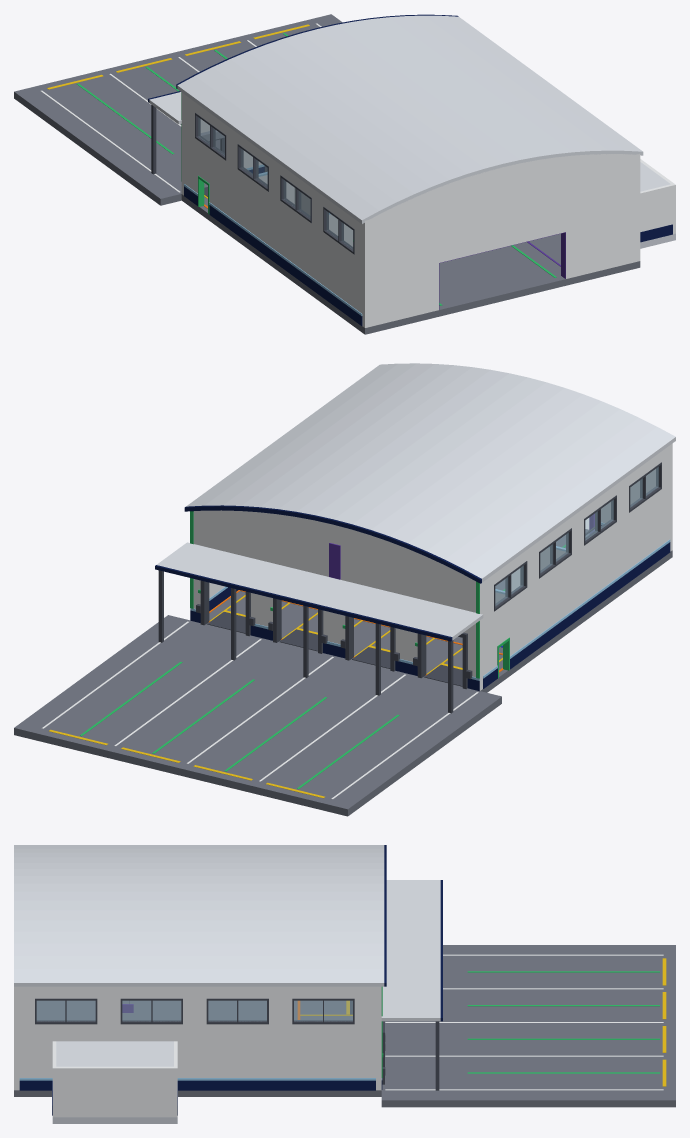
File: LLASO_Warehouse.obj
3 renders of one model, top to bottom at view 1: azimuth 30°, elevation 25°; view 2: azimuth 150°, elevation 25°; view 3: azimuth 270°, elevation 25°, orthographic. The views are drawn at different scales.
Parts seen in each view (by area): view 1: LLASO_WH_Roof, LLASO_WH_HallWall, LLASO_WH_Apron, LLASO_WH_SideWall_Fragile, LLASO_WH_Floor, LLASO_WH_Pediment, LLASO_WH_Windows, LLASO_WH_CTBLink, LLASO_WH_ApronPaint, LLASO_WH_Canopy, LLASO_WH_ColdStorage, LLASO_WH_DockWall; view 2: LLASO_WH_Roof, LLASO_WH_Apron, LLASO_WH_SideWall_Fragile, LLASO_WH_DockWall, LLASO_WH_Canopy, LLASO_WH_Floor, LLASO_WH_ApronPaint, LLASO_WH_Windows, LLASO_WH_Pediment, LLASO_WH_DockFrames, LLASO_WH_Levelers, LLASO_WH_Accents (+1 smaller); view 3: LLASO_WH_Roof, LLASO_WH_Apron, LLASO_WH_SideWall_CTB, LLASO_WH_CTBLink, LLASO_WH_Canopy, LLASO_WH_Windows, LLASO_WH_Floor, LLASO_WH_ApronPaint, LLASO_WH_DockWall, LLASO_WH_HallWall.
Part boxes in pixels (x1,y1,x2,y2): LLASO_WH_Roof: [176, 14, 643, 223]; LLASO_WH_HallWall: [362, 153, 640, 327]; LLASO_WH_Apron: [14, 14, 342, 205]; LLASO_WH_SideWall_Fragile: [184, 94, 362, 325]; LLASO_WH_Floor: [181, 194, 640, 334]; LLASO_WH_Pediment: [370, 154, 637, 220]; LLASO_WH_Windows: [195, 112, 354, 254]; LLASO_WH_CTBLink: [640, 159, 675, 248]; LLASO_WH_ApronPaint: [40, 23, 321, 192]; LLASO_WH_Canopy: [148, 91, 224, 174]; LLASO_WH_ColdStorage: [258, 172, 352, 246]; LLASO_WH_DockWall: [181, 92, 264, 195]; LLASO_WH_Roof: [184, 363, 675, 583]; LLASO_WH_Apron: [14, 615, 501, 816]; LLASO_WH_SideWall_Fragile: [482, 445, 670, 688]; LLASO_WH_DockWall: [190, 510, 482, 691]; LLASO_WH_Canopy: [155, 542, 483, 713]; LLASO_WH_Floor: [206, 529, 672, 692]; LLASO_WH_ApronPaint: [42, 621, 478, 799]; LLASO_WH_Windows: [494, 462, 661, 611]; LLASO_WH_Pediment: [199, 510, 461, 573]; LLASO_WH_DockFrames: [200, 580, 467, 689]; LLASO_WH_Levelers: [207, 610, 462, 686]; LLASO_WH_Accents: [190, 511, 479, 678]; LLASO_WH_Roof: [14, 845, 386, 986]; LLASO_WH_Apron: [381, 945, 675, 1107]; LLASO_WH_SideWall_CTB: [19, 986, 376, 1090]; LLASO_WH_CTBLink: [52, 1041, 177, 1123]; LLASO_WH_Canopy: [381, 880, 442, 1090]; LLASO_WH_Windows: [35, 998, 354, 1024]; LLASO_WH_Floor: [14, 1000, 381, 1096]; LLASO_WH_ApronPaint: [385, 954, 666, 1090]; LLASO_WH_DockWall: [377, 986, 382, 1090]; LLASO_WH_HallWall: [14, 986, 18, 1090].
Bounding box in the file's own units: 33.2 × 12.4 × 54.
